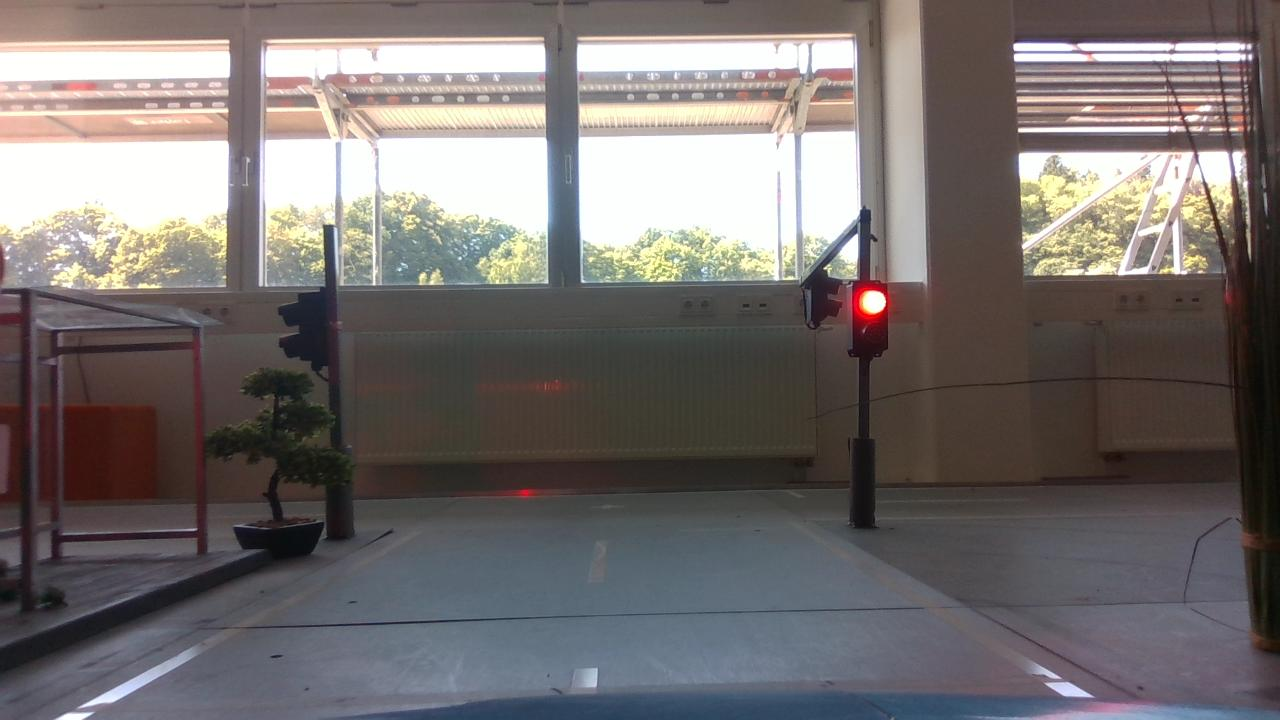traffic_light_red: (831, 268, 908, 366)
